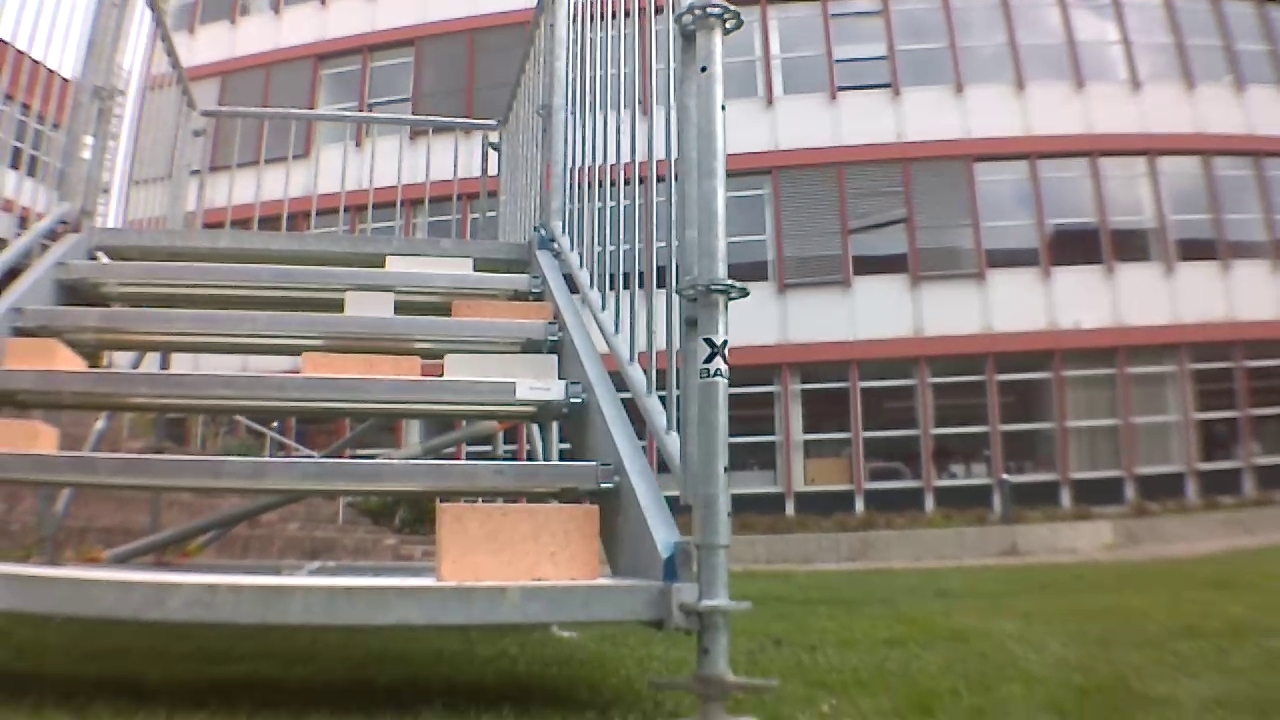brick: (434, 498, 599, 585), (441, 344, 559, 391), (299, 350, 423, 381), (1, 336, 89, 374), (337, 290, 396, 319), (386, 254, 469, 273), (450, 302, 555, 317)
edge: (0, 577, 692, 625), (5, 302, 568, 345), (52, 252, 542, 298), (0, 458, 626, 490), (0, 375, 611, 402), (75, 233, 542, 249)
stairs: (0, 0, 715, 694)
steps: (0, 234, 666, 621)
